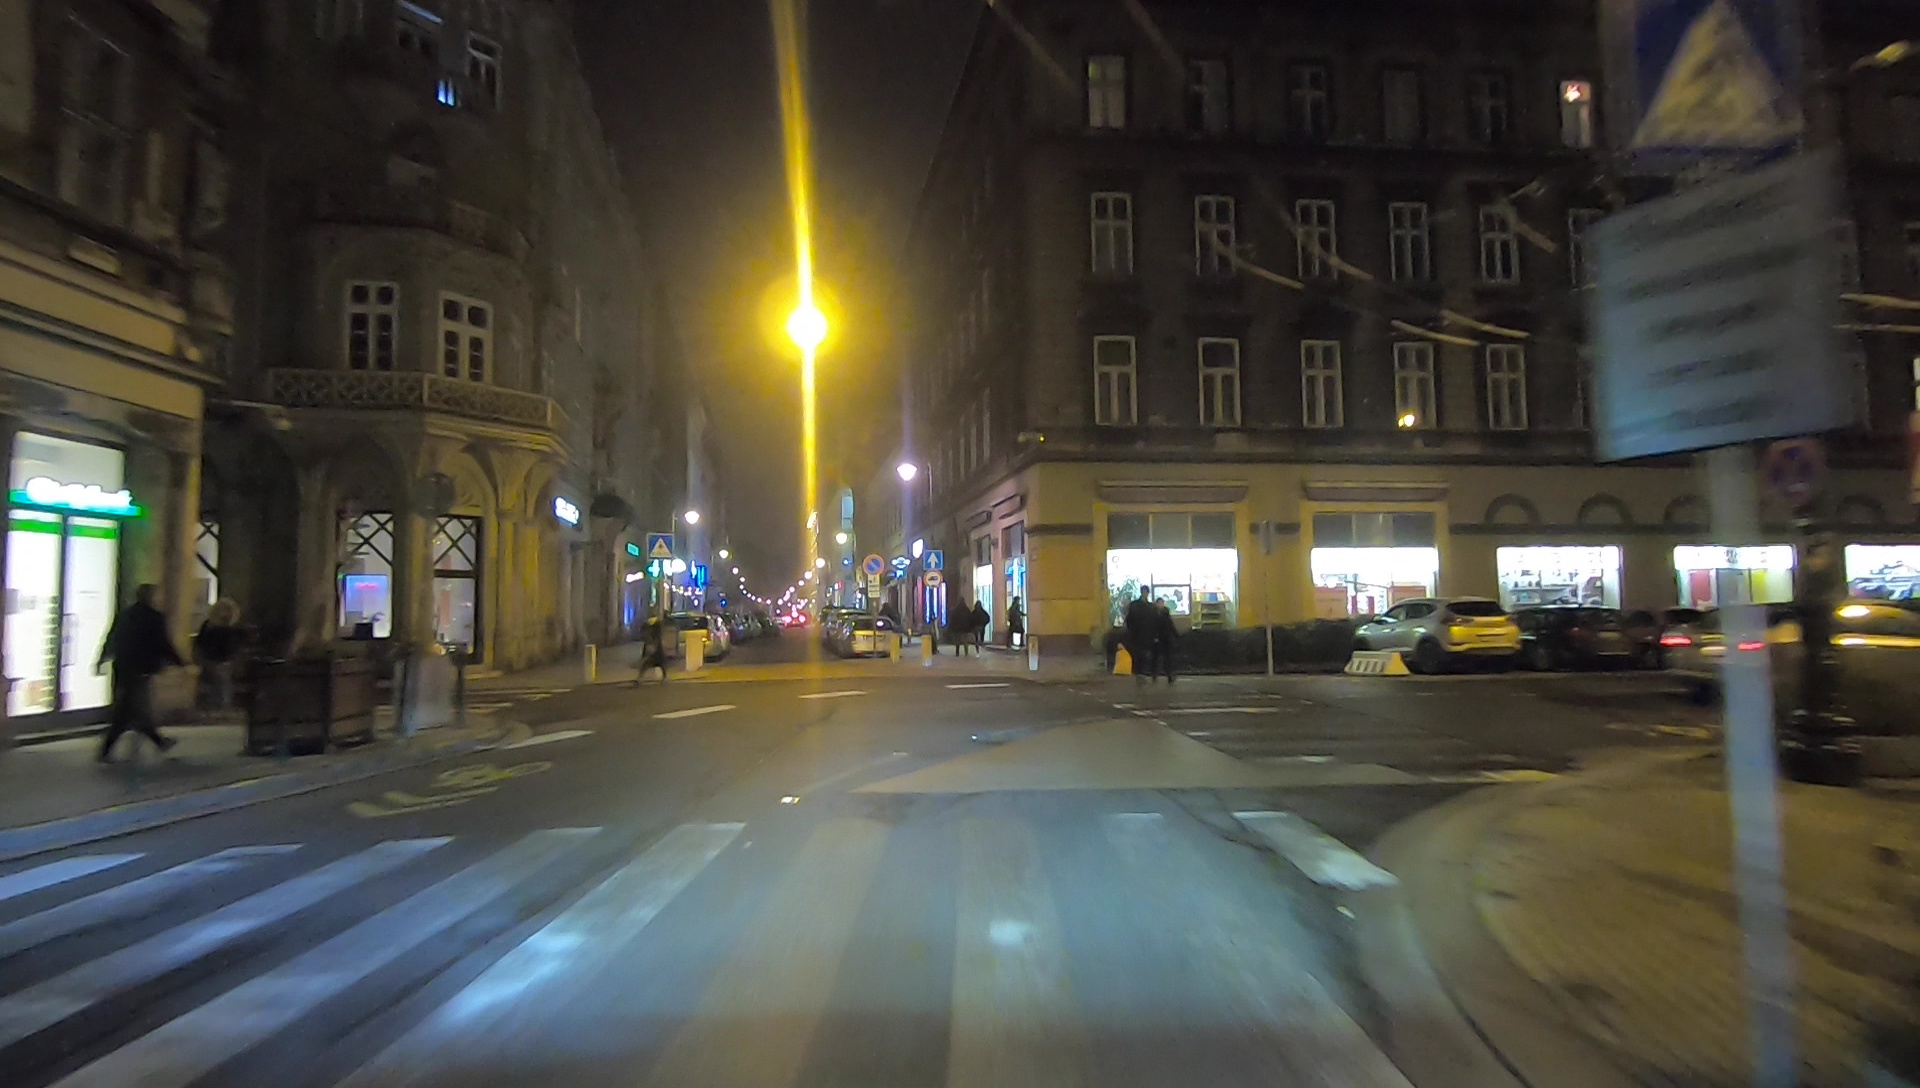person: (104, 582, 176, 774), (202, 595, 243, 719), (1126, 586, 1152, 686), (1152, 591, 1178, 684), (639, 611, 667, 684), (952, 597, 973, 656), (973, 599, 989, 652), (1006, 597, 1021, 647)
